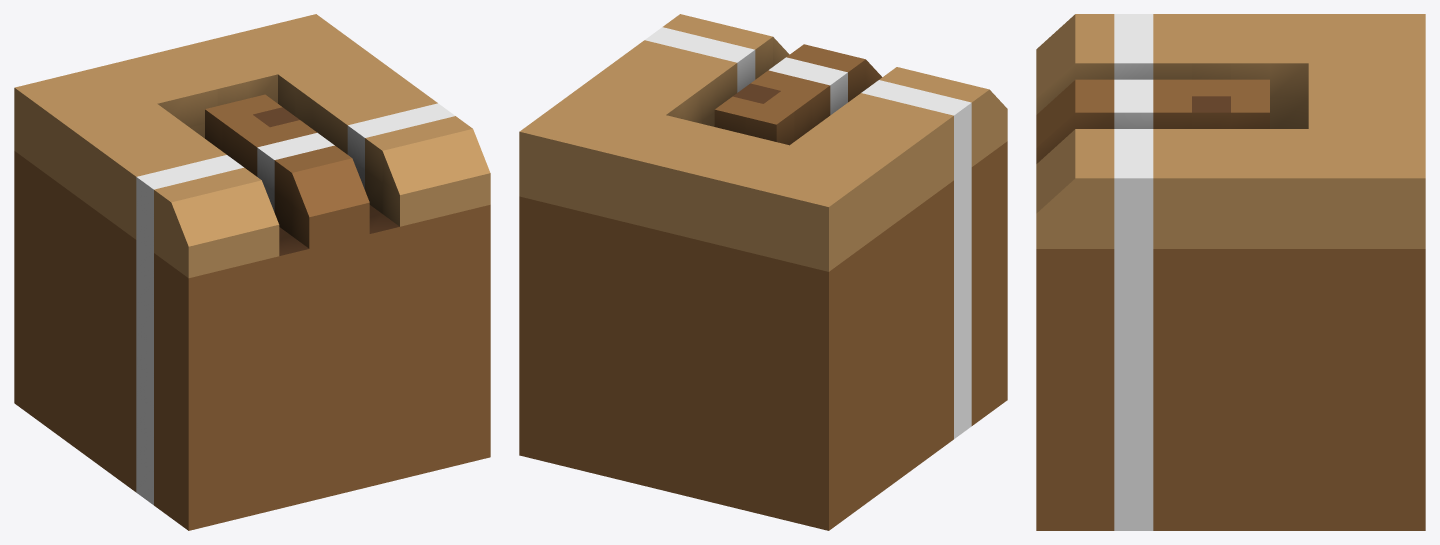
File: wood_tile_voxel_end.fbx
3 renders of one model, left to right at view 1: azimuth 30°, elevation 25°; view 2: azimuth 150°, elevation 25°; view 3: azimuth 270°, elevation 25°, orthographic. The views are drawn at different scales.
Visible parts, largest first — view 1: Block, Plank2, Plank1; view 2: Block, Plank2, Plank1; view 3: Block, Plank2, Plank1.
Part boxes in pixels (left/top/right/bottom): Block: left=14, top=151, right=490, bottom=530; Plank2: left=14, top=14, right=490, bottom=278; Plank1: left=205, top=94, right=369, bottom=248; Block: left=519, top=141, right=1007, bottom=530; Plank2: left=519, top=14, right=1007, bottom=271; Plank1: left=714, top=44, right=882, bottom=145; Block: left=1036, top=249, right=1425, bottom=530; Plank2: left=1036, top=14, right=1425, bottom=248; Plank1: left=1036, top=79, right=1269, bottom=163.
Size of the model in its own units: 100 by 100 by 100.
